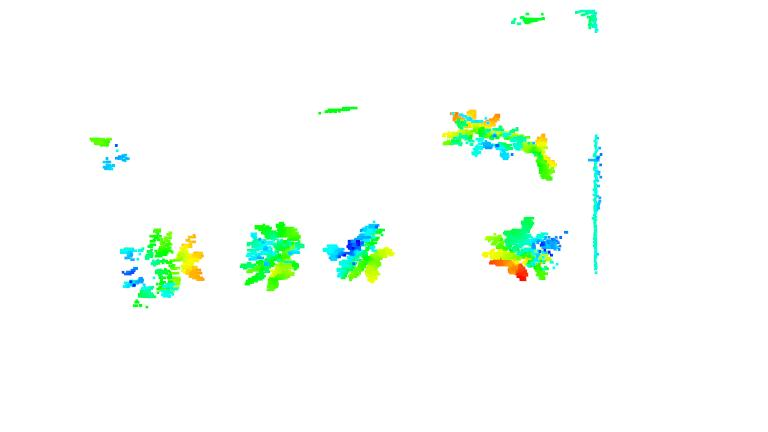chickpea: (119, 224, 203, 314), (484, 211, 563, 286), (319, 222, 399, 285), (240, 220, 306, 296), (438, 106, 514, 161), (514, 130, 559, 184)
